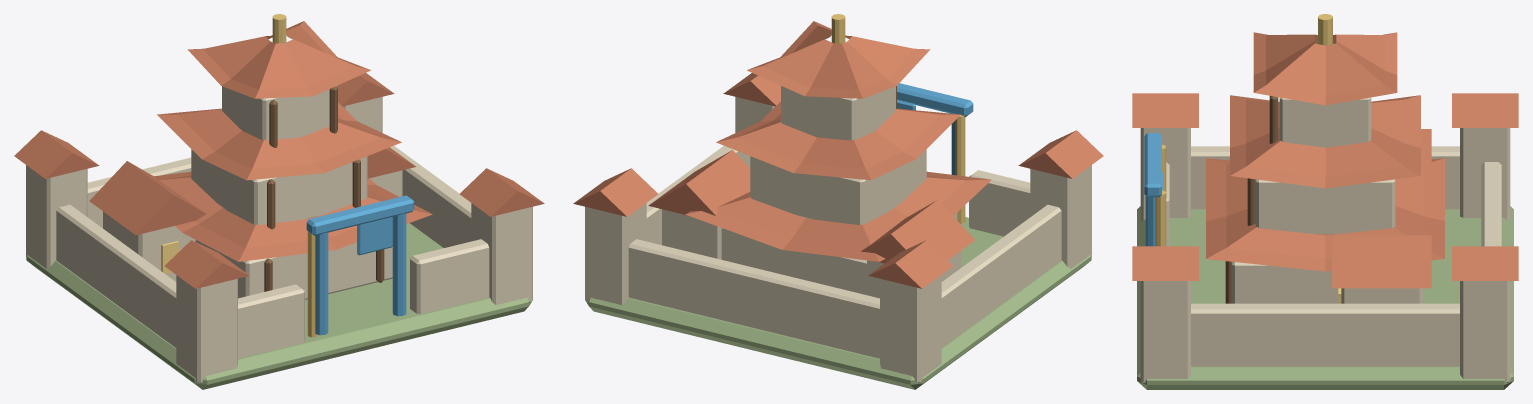
Rendered from CityJapanese.fbx.
The picture shows the model from 3 angles, left to right: view 1: azimuth 30°, elevation 25°; view 2: azimuth 150°, elevation 25°; view 3: azimuth 270°, elevation 25°; orthographic projection. The views are drawn at different scales.
Visible parts, largest first — view 1: CityJapanese; view 2: CityJapanese; view 3: CityJapanese.
Part boxes in pixels (x1,y1,x2,y2): CityJapanese: [14, 14, 544, 389]; CityJapanese: [573, 14, 1103, 389]; CityJapanese: [1132, 14, 1518, 389].
Bounding box in the file's own units: 3.41 × 2.54 × 3.07.
